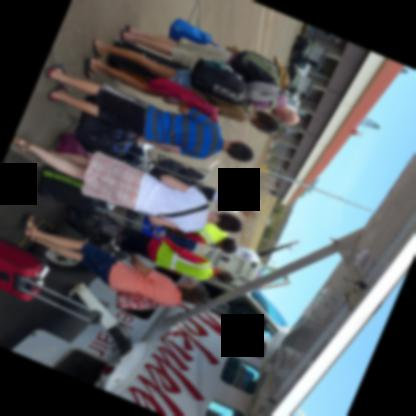backpack: (228, 49, 287, 108), (190, 57, 251, 106)
handbag: (74, 96, 136, 155), (165, 15, 219, 47), (113, 292, 176, 311), (53, 132, 89, 161), (157, 204, 209, 218)
suitcase: (0, 237, 104, 327), (36, 165, 161, 233), (73, 95, 138, 155), (69, 208, 121, 249), (147, 158, 184, 180), (162, 231, 196, 251)
